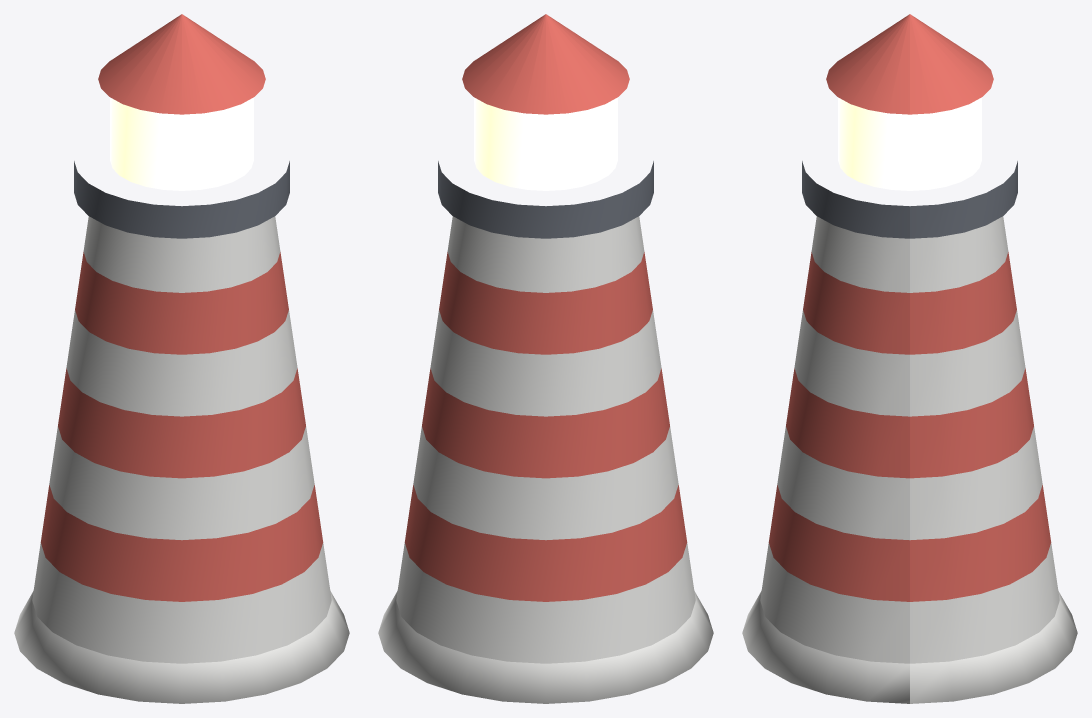
Rendered from lighthouse.glb.
3 renders of one model, left to right at view 1: azimuth 30°, elevation 25°; view 2: azimuth 150°, elevation 25°; view 3: azimuth 270°, elevation 25°, orthographic.
Visible parts, largest first — view 1: band0, band1, band2, band3, base, band4, band5, roof, lantern, band6, gallery; view 2: band0, band1, band2, band3, base, band4, band5, roof, lantern, band6, gallery; view 3: band0, band1, band2, band3, base, band4, band5, roof, lantern, band6, gallery.
Part boxes in pixels (x1=…): band0: x1=32, y1=543, x2=331, y2=663; band1: x1=40, y1=485, x2=323, y2=601; band2: x1=49, y1=426, x2=314, y2=540; band3: x1=58, y1=368, x2=305, y2=478; base: x1=14, y1=591, x2=349, y2=703; band4: x1=66, y1=310, x2=297, y2=416; band5: x1=75, y1=252, x2=288, y2=354; roof: x1=98, y1=14, x2=265, y2=114; lantern: x1=110, y1=97, x2=253, y2=190; band6: x1=83, y1=216, x2=280, y2=292; gallery: x1=74, y1=161, x2=289, y2=238; band0: x1=396, y1=543, x2=695, y2=663; band1: x1=404, y1=485, x2=687, y2=601; band2: x1=413, y1=426, x2=678, y2=540; band3: x1=422, y1=368, x2=669, y2=478; base: x1=378, y1=591, x2=713, y2=703; band4: x1=430, y1=310, x2=661, y2=416; band5: x1=439, y1=252, x2=652, y2=354; roof: x1=462, y1=14, x2=629, y2=114; lantern: x1=474, y1=97, x2=617, y2=190; band6: x1=447, y1=216, x2=644, y2=292; gallery: x1=438, y1=161, x2=653, y2=238; band0: x1=760, y1=543, x2=1059, y2=663; band1: x1=768, y1=485, x2=1051, y2=601; band2: x1=777, y1=426, x2=1042, y2=540; band3: x1=786, y1=368, x2=1033, y2=478; base: x1=742, y1=591, x2=1077, y2=703; band4: x1=794, y1=310, x2=1025, y2=416; band5: x1=803, y1=252, x2=1016, y2=354; roof: x1=826, y1=14, x2=993, y2=114; lantern: x1=838, y1=97, x2=981, y2=190; band6: x1=811, y1=216, x2=1008, y2=292; gallery: x1=802, y1=161, x2=1017, y2=238.
Bounding box in the file's own units: 1.12 × 2.28 × 1.12.
